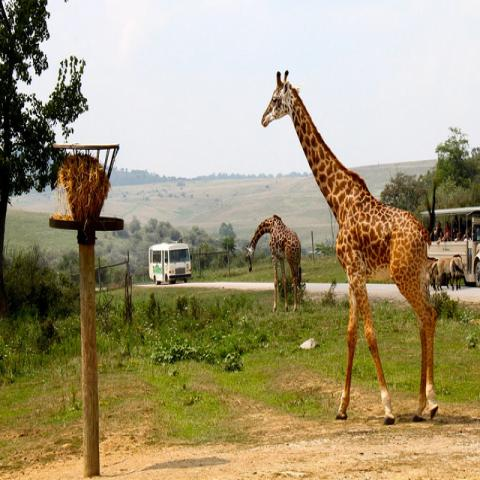bus: (429, 205, 479, 284), (148, 242, 192, 284)
truck: (420, 207, 479, 286), (148, 240, 192, 284)
